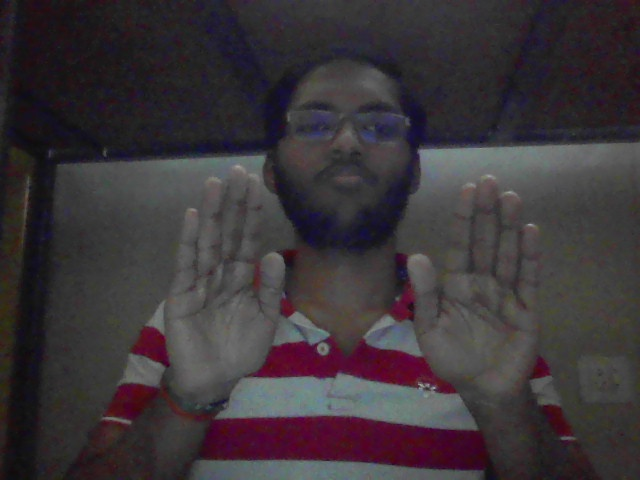GOd_Bless_You: (152, 160, 546, 440)
